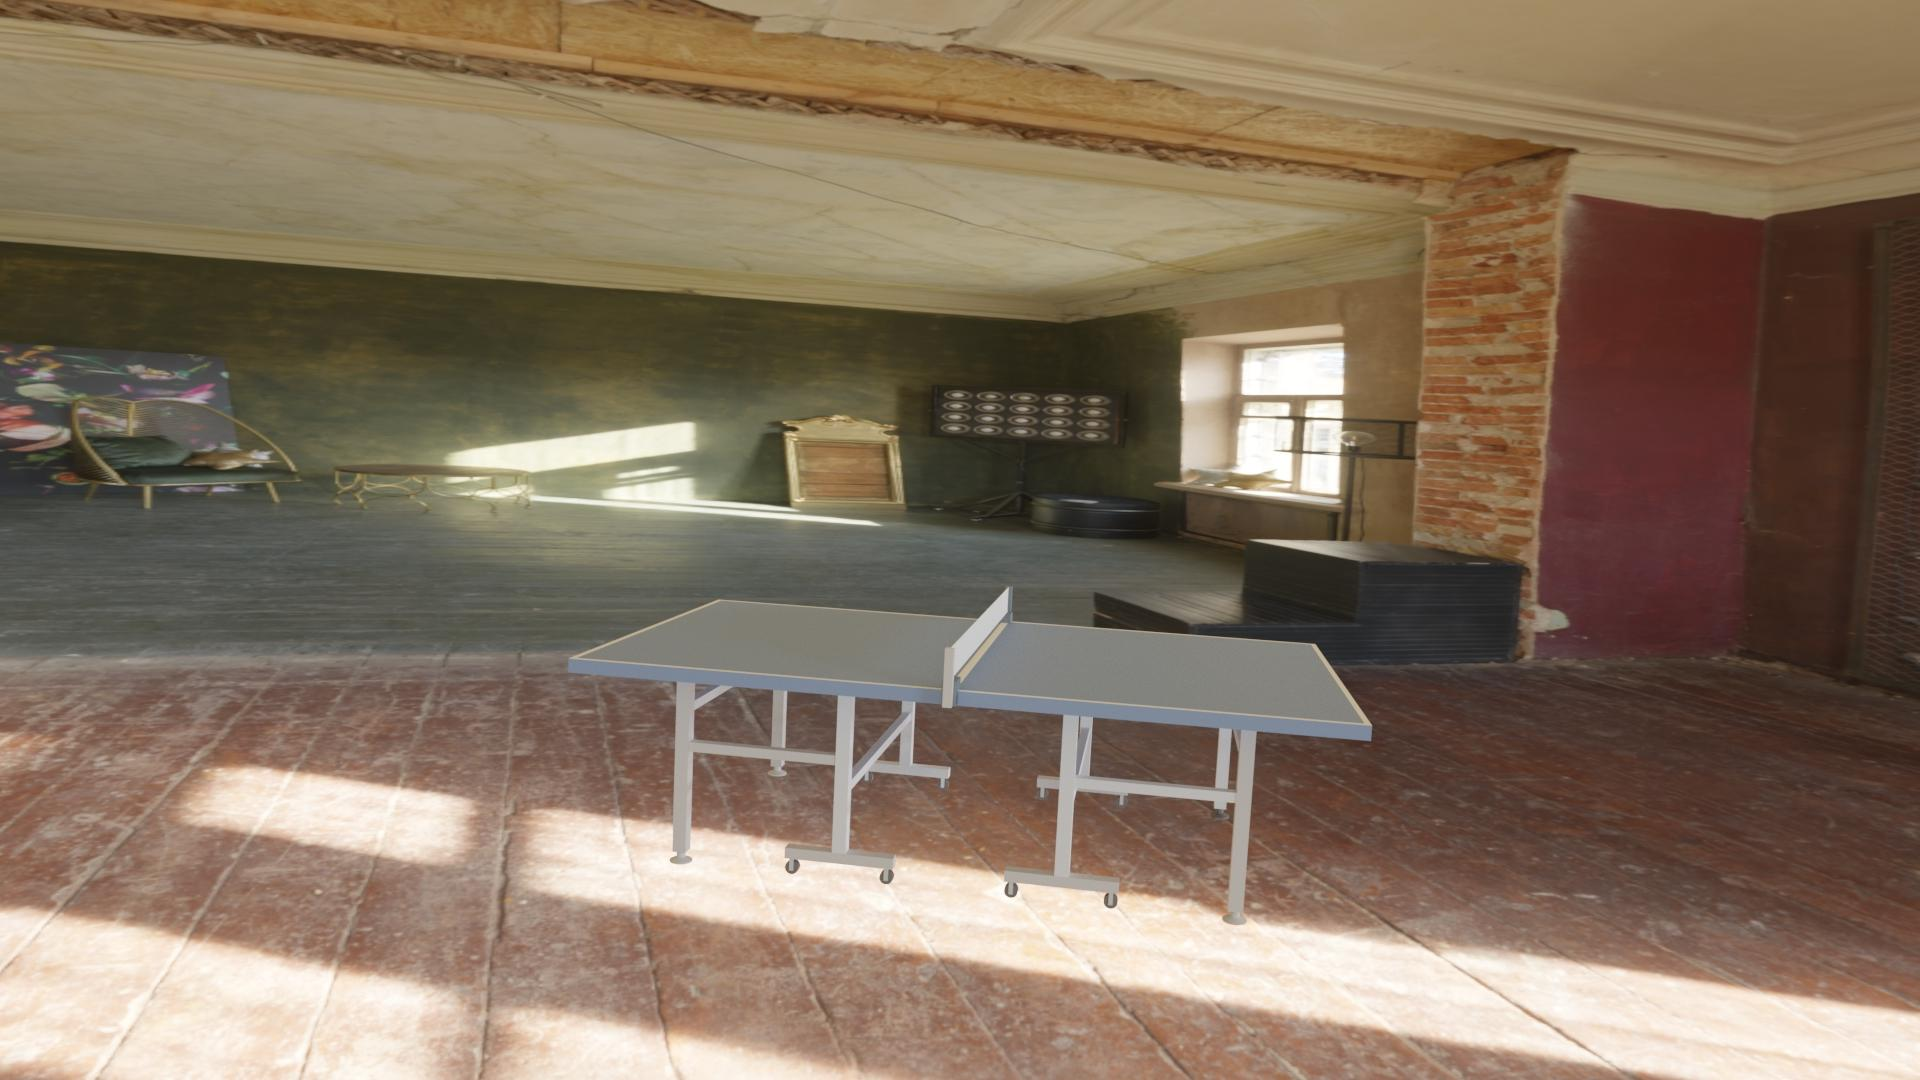table: (576, 600, 1365, 724)
